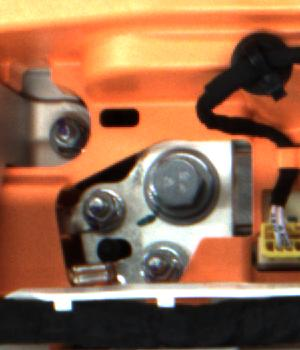nut_b: (141, 142, 226, 232)
screw_s: (44, 115, 84, 157), (81, 186, 121, 227), (141, 245, 181, 283)
